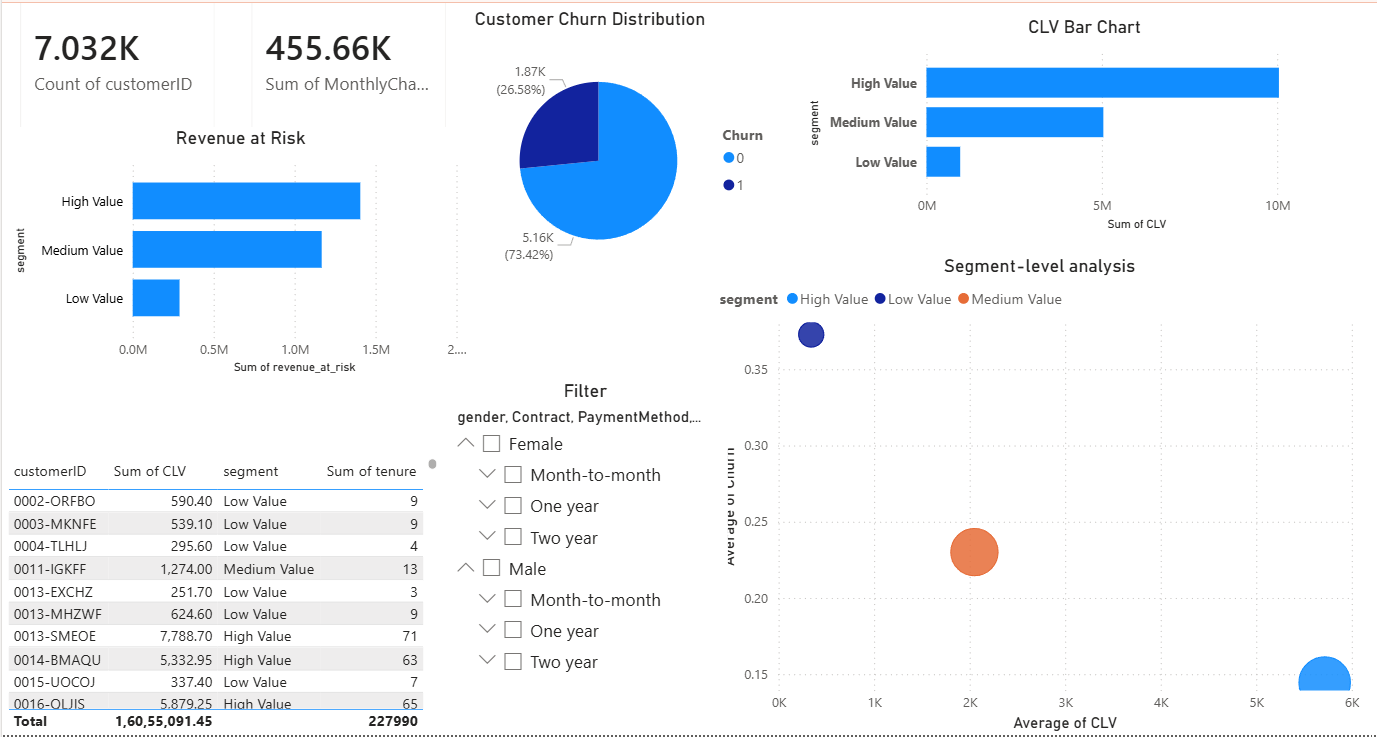

The dashboard page shown, as its layout file describes it:
{"tool":"powerbi","page":{"name":"Page 1","canvas":[1280,720],"ordinal":0},"visuals":[{"type":"pieChart","title":"Customer Churn Distribution","fields":{"Y":["CountNonNull(churn_powerbi.Churn)"],"Category":["churn_powerbi.Churn"]},"box":[435,43.3,298.3,263.3],"z":0},{"type":"cardVisual","fields":{"Data":["CountNonNull(churn_powerbi.customerID)"]},"box":[0,0,215.4,178.4],"z":1},{"type":"cardVisual","fields":{"Data":["Sum(churn_powerbi.MonthlyCharges)"]},"box":[215.4,0,215.4,178.4],"z":2},{"type":"barChart","title":"CLV Bar Chart","fields":{"Category":["churn_powerbi.segment"],"Y":["Sum(churn_powerbi.CLV)"]},"box":[745,50,523.3,205],"z":3},{"type":"tableEx","fields":{"Values":["churn_powerbi.customerID","Sum(churn_powerbi.CLV)","churn_powerbi.segment","Sum(churn_powerbi.tenure)"]},"box":[0,456.7,410,263.3],"z":4},{"type":"barChart","title":"Revenue at Risk","fields":{"Y":["Sum(churn_powerbi.revenue_at_risk)"],"Category":["churn_powerbi.segment"]},"box":[6.7,153.3,430,235],"z":5},{"type":"scatterChart","title":"Segment-level analysis","fields":{"Y":["churn_powerbi.Churn"],"Size":["Sum(churn_powerbi.revenue_at_risk)"],"X":["churn_powerbi.CLV"],"Series":["churn_powerbi.segment"]},"box":[663.3,271.7,605,448.3],"z":6},{"type":"slicer","title":"Filter","fields":{"Values":["churn_powerbi.gender","churn_powerbi.Contract","churn_powerbi.PaymentMethod","churn_powerbi.segment"]},"box":[410,388.9,264.4,293.3],"z":7}]}

Visuals, with their boxes on the page's 1280x720 design canvas (x1, y1, x2, y2). These are canvas units, not pixel positions in the 1377x737 screenshot, which may show the page scaled, cropped or inside an application window:
"Customer Churn Distribution" pieChart: box(435, 43, 733, 307)
cardVisual - CountNonNull(churn_powerbi.customerID): box(0, 0, 215, 178)
cardVisual - Sum(churn_powerbi.MonthlyCharges): box(215, 0, 431, 178)
"CLV Bar Chart" barChart: box(745, 50, 1268, 255)
tableEx - churn_powerbi.customerID x Sum(churn_powerbi.CLV): box(0, 457, 410, 720)
"Revenue at Risk" barChart: box(7, 153, 437, 388)
"Segment-level analysis" scatterChart: box(663, 272, 1268, 720)
"Filter" slicer: box(410, 389, 674, 682)
